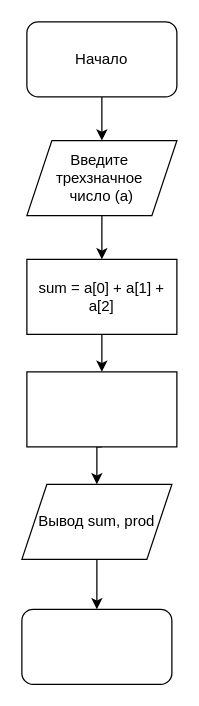
Some shapes in this 199 by 706 pixel diagram are drawn without their labels. Here are the shapes that lost their labels. From the top down, the centre of each, then its label:
At (x=101, y=409): "prod = a[0] * a[1] * a[2]".
At (x=96, y=646): "Конец".
